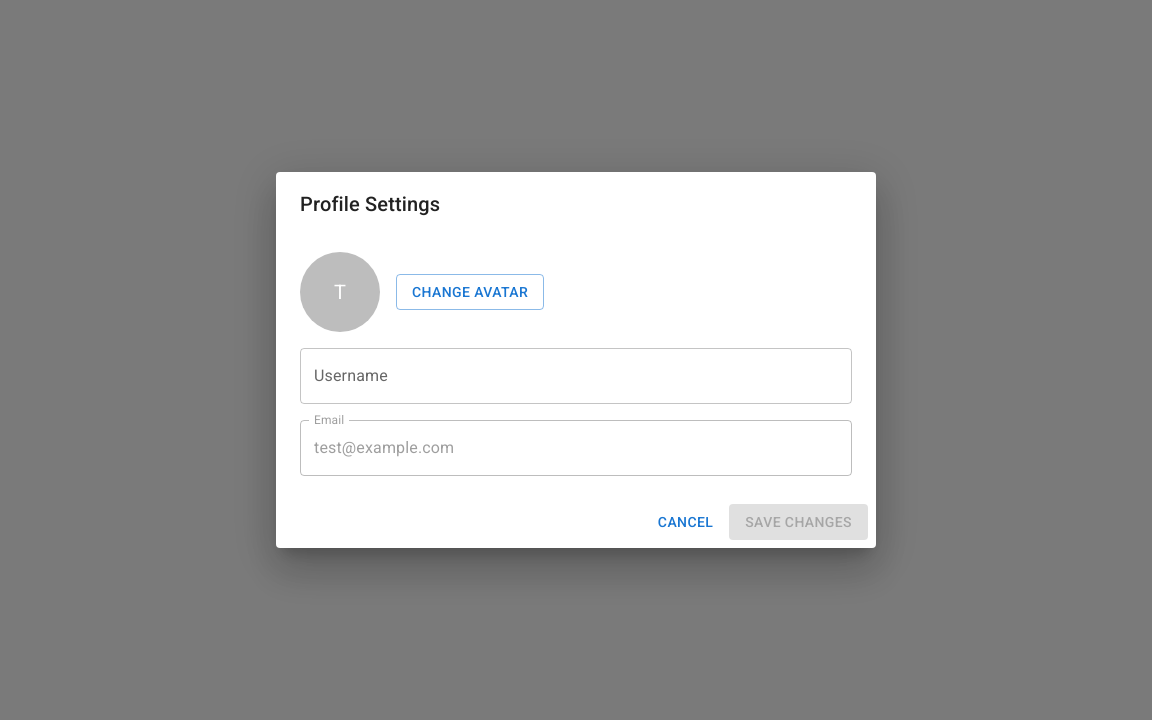
Test case: ProfileModal › Username Update › handles username update error
The image size is (1152, 720).
Type "newusername" into the field labelled "Username" at (576,376), box [300, 348, 852, 404]
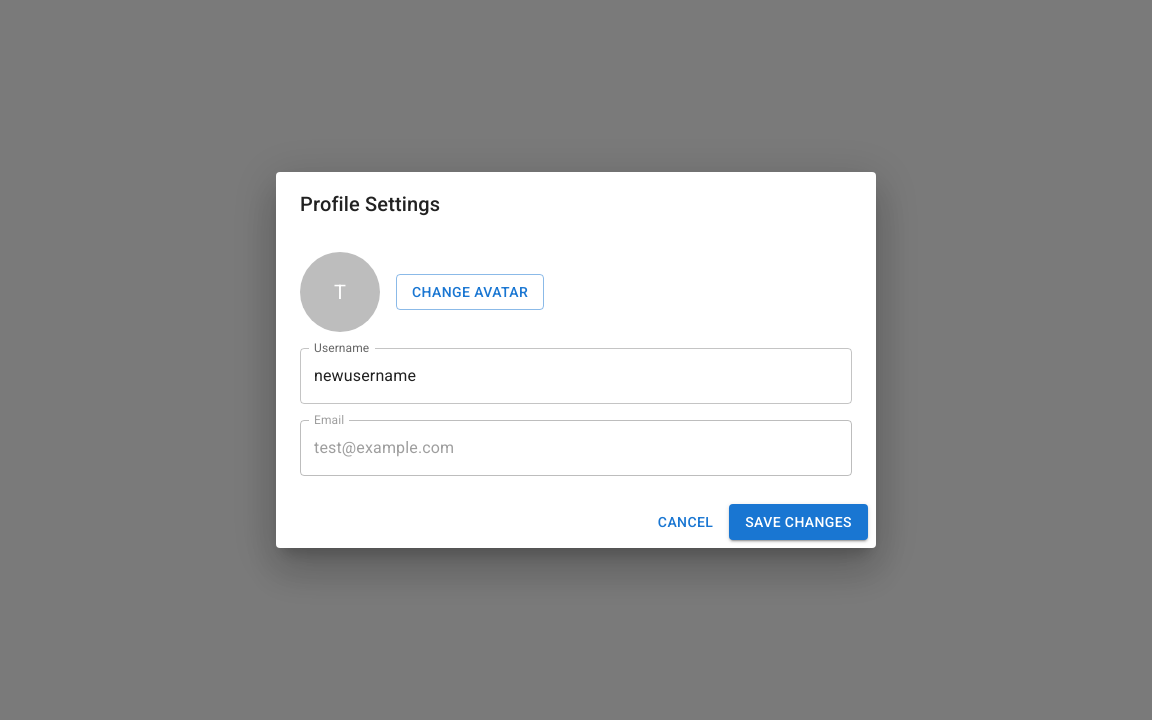
Click the button "Save Changes" at (799,522), box [729, 504, 868, 540]
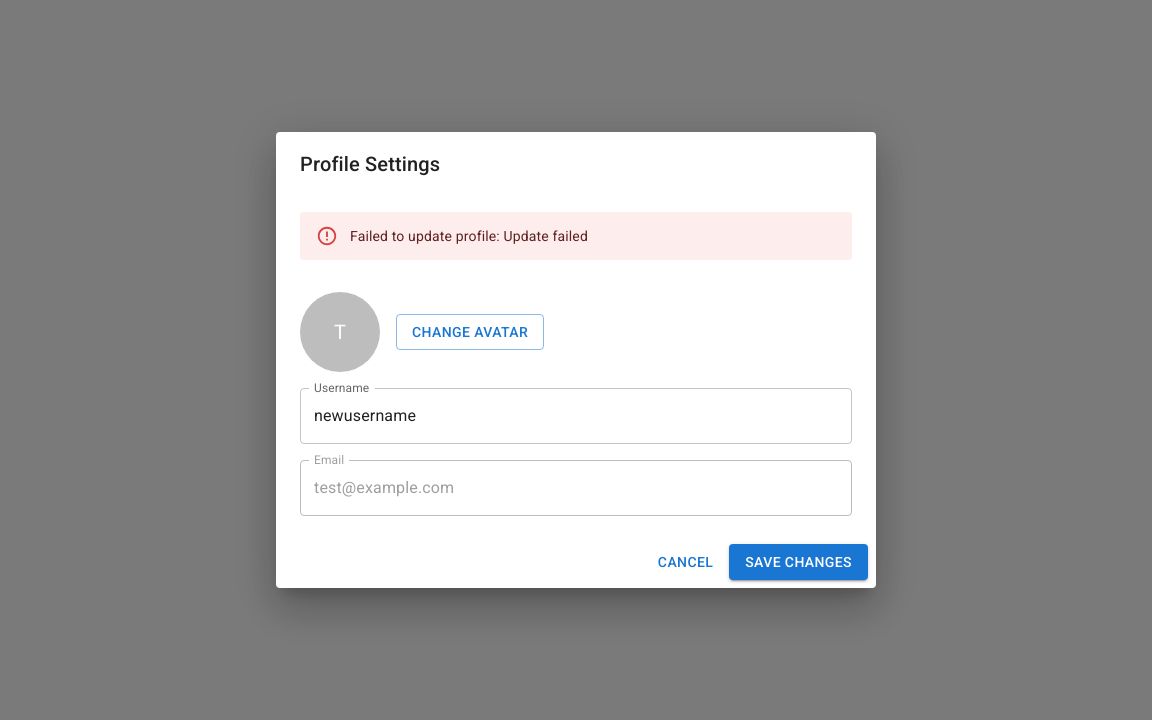
Check: the text "Failed to update profile: Update failed" is shown, box [350, 228, 588, 244]
